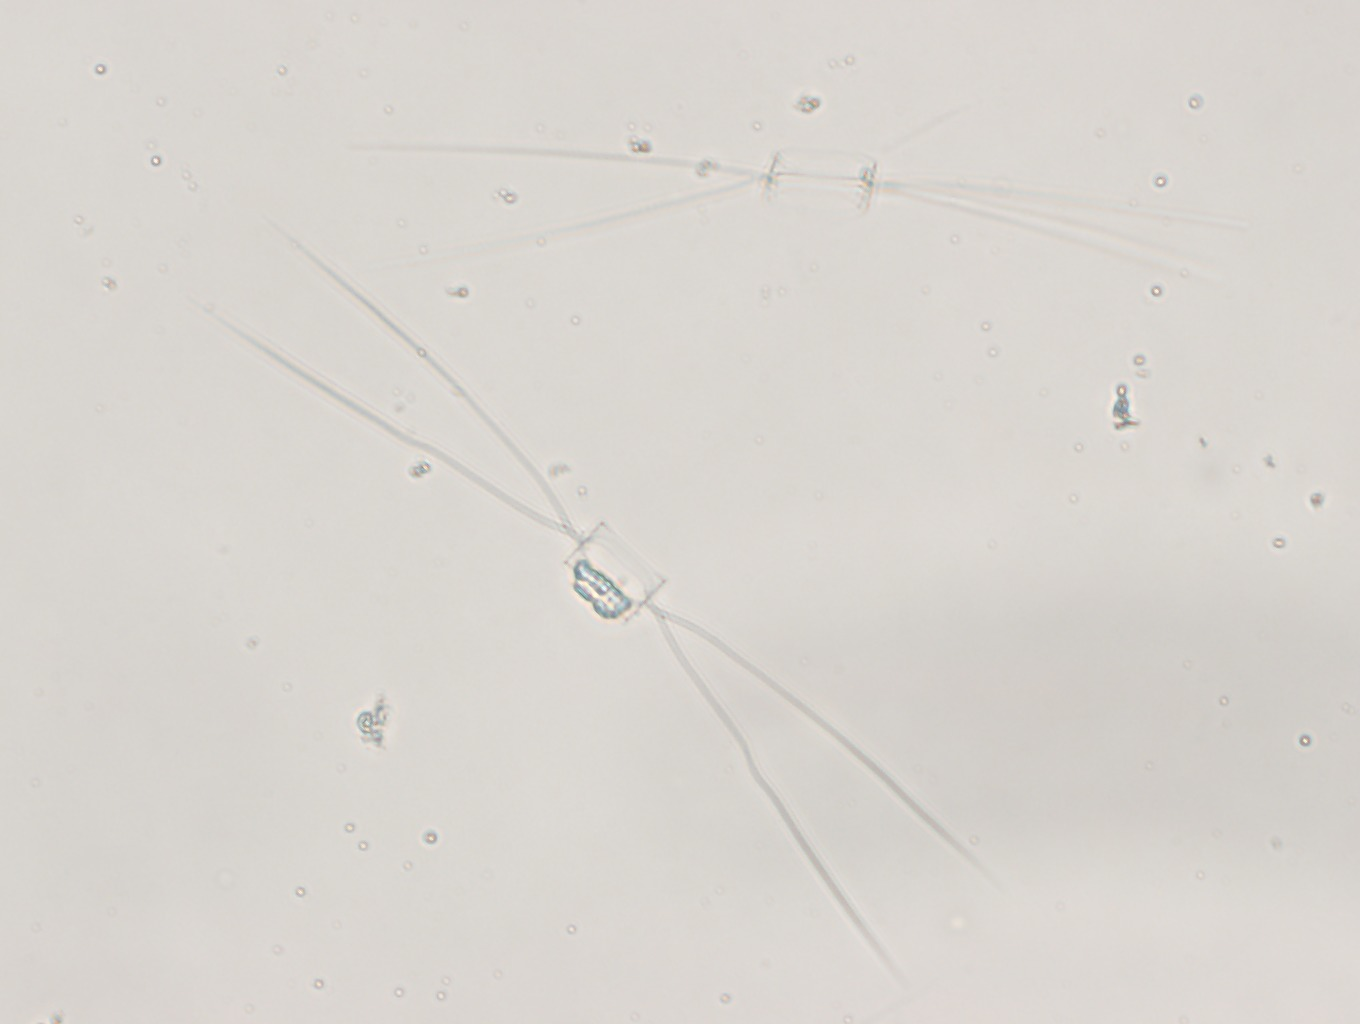chaetoceros: (237, 224, 1013, 997), (374, 62, 1282, 317)
